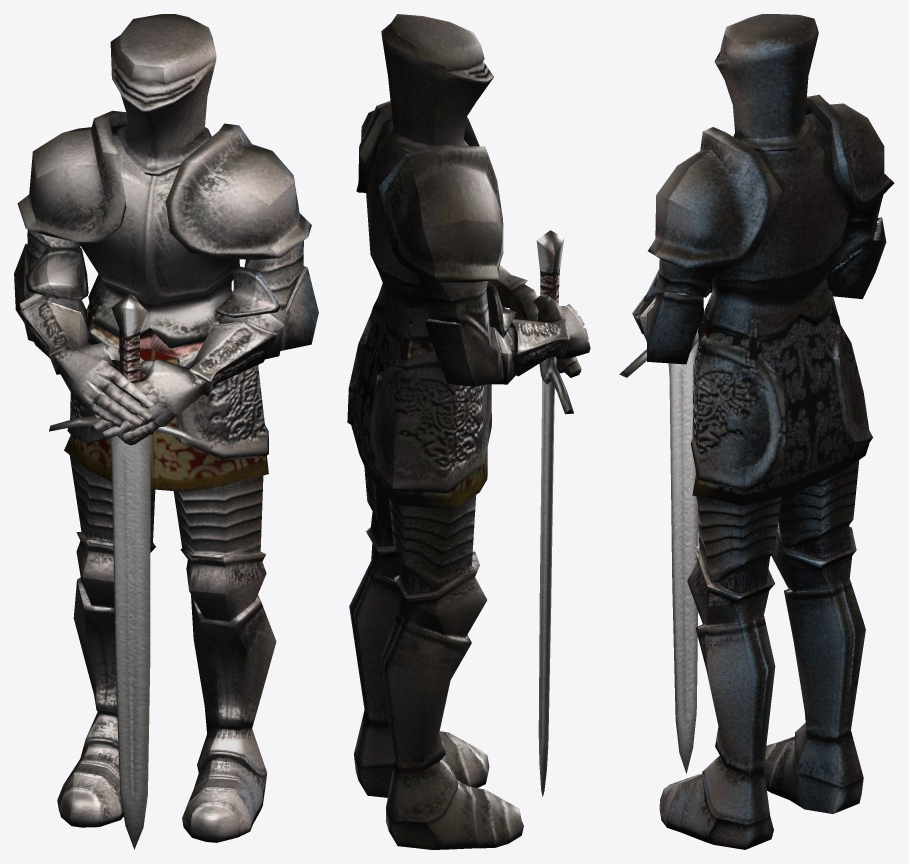
The model's file is knight2.dae.
3 renders of one model, left to right at view 1: azimuth 30°, elevation 25°; view 2: azimuth 150°, elevation 25°; view 3: azimuth 270°, elevation 25°, orthographic. The views are drawn at different scales.
Visible parts, largest first — view 1: Knight2; view 2: Knight2; view 3: Knight2.
Part boxes in pixels (box(x1,y1,x2,y2)): Knight2: box(14, 14, 318, 849); Knight2: box(347, 14, 590, 849); Knight2: box(619, 14, 894, 849).
Size of the model in its own units: 2.8 by 2.78 by 8.83.
1 material, 1 textured.
